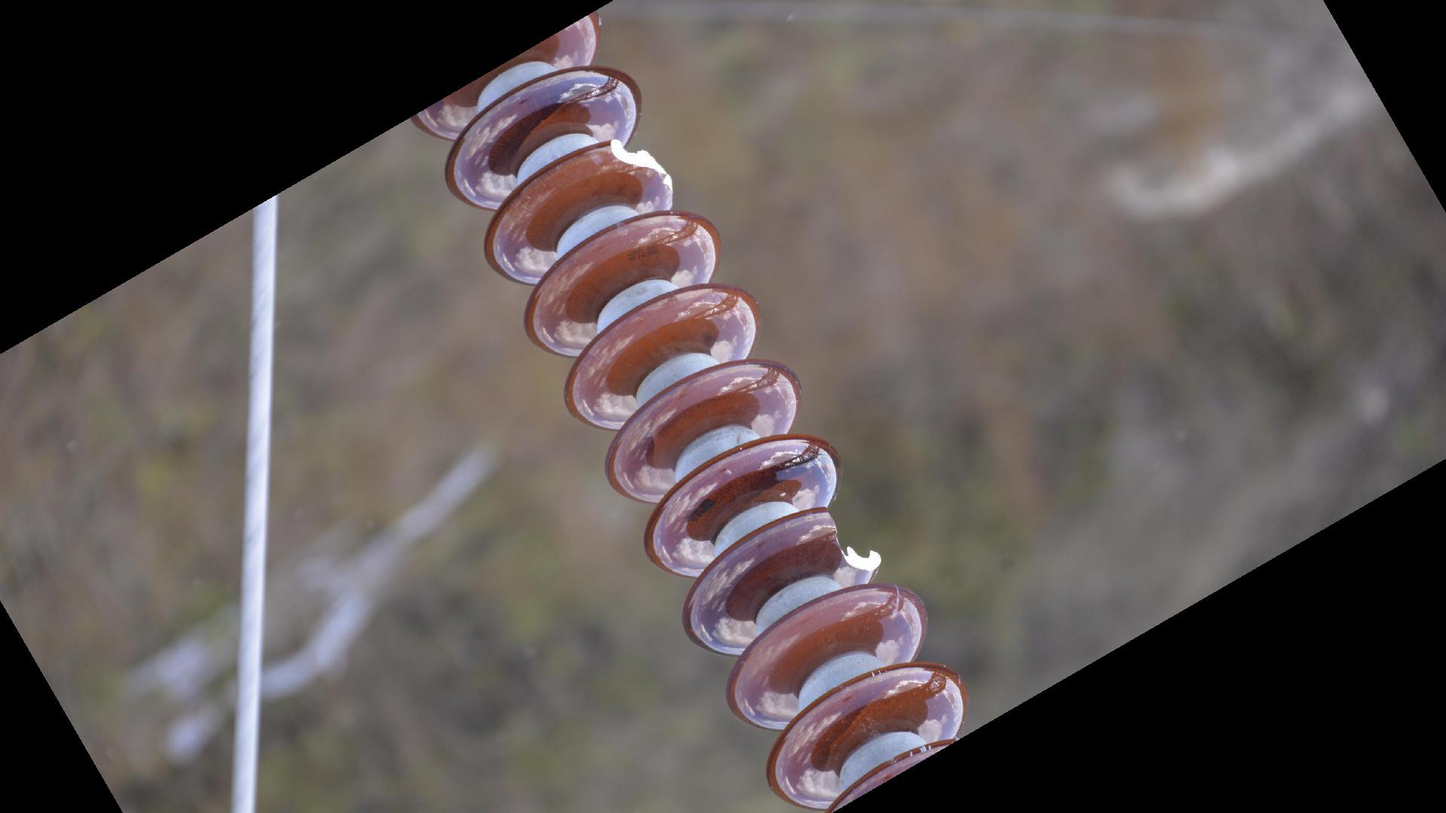insulator: (404, 5, 976, 813)
insulator_breakage: (818, 504, 887, 580), (603, 134, 677, 190)
